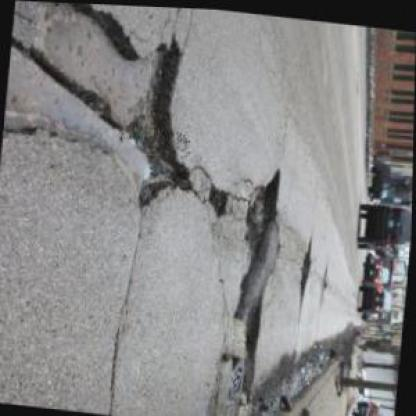pothole: (0, 0, 211, 216), (241, 161, 286, 244), (240, 294, 269, 392), (205, 179, 233, 218), (300, 237, 316, 295)
